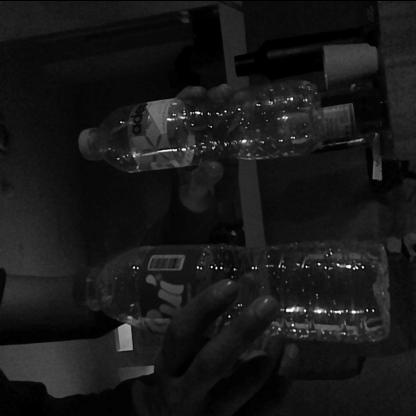plastic_bottles: (74, 240, 390, 346), (79, 74, 323, 170)
